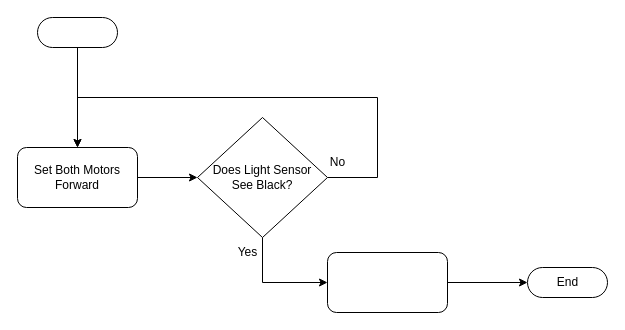
The diagram is 625 pixels wide and 330 high, and some of its shapes have lost their labels. The shapes that lost their labels are listed below. From the top down, each one's centre as x and y in pixels, then its label:
the point at 77,32: Start
the point at 387,282: Stop Both Motors
